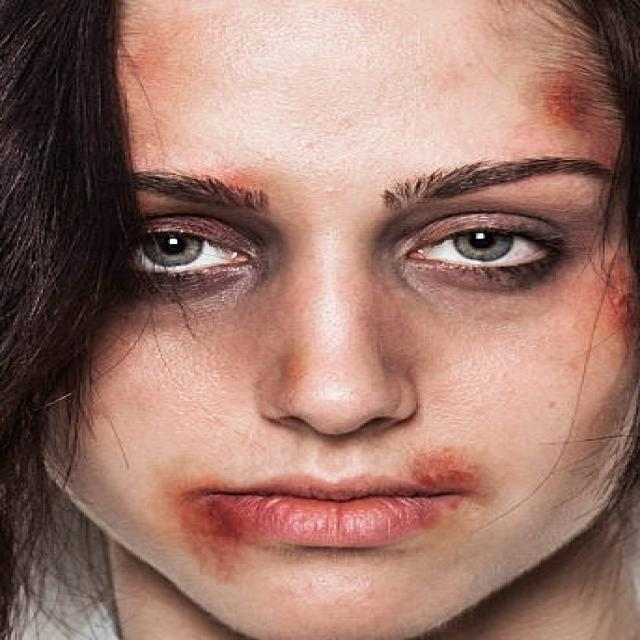Anxiety: (42, 0, 638, 639)
